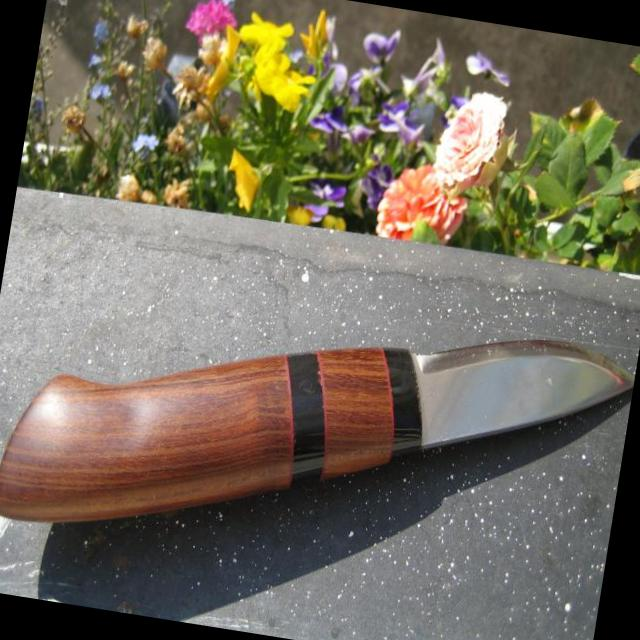Knife: (0, 340, 635, 523)
